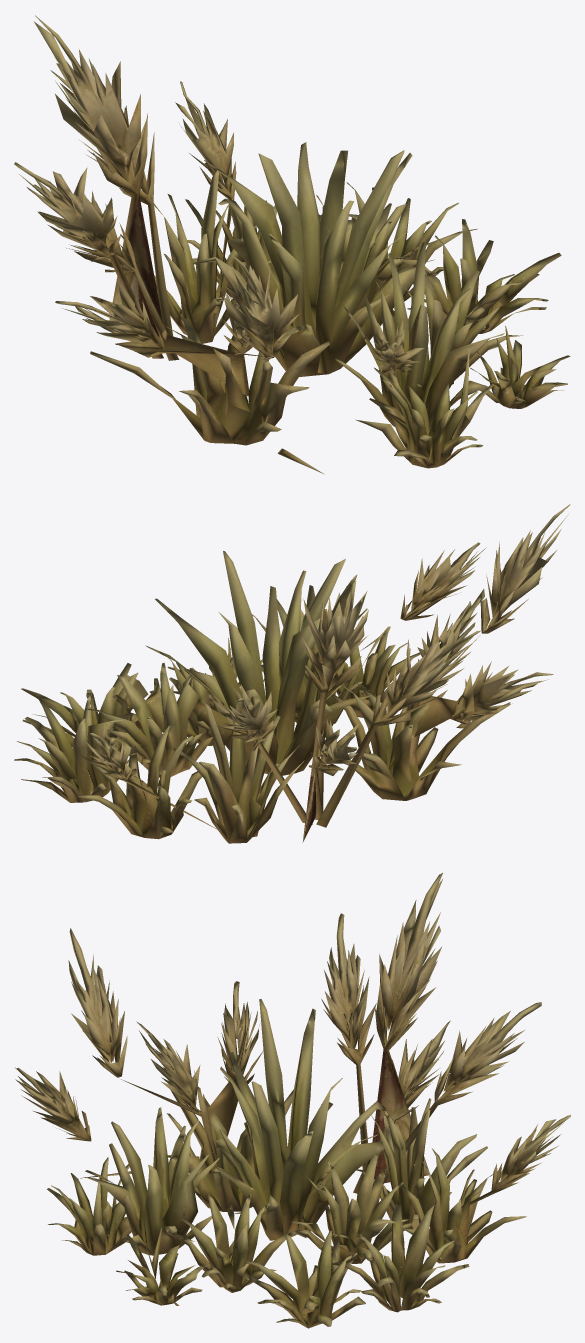
File: tripo_convert_0673644a-0f0e-4099-988a-745da5180ba0.fbx
The picture shows the model from 3 angles, top to bottom: view 1: azimuth 30°, elevation 25°; view 2: azimuth 150°, elevation 25°; view 3: azimuth 270°, elevation 25°; orthographic projection. The views are drawn at different scales.
Visible parts, largest first — view 1: tripo_node_0673644a; view 2: tripo_node_0673644a; view 3: tripo_node_0673644a.
Boxes of the visible parts, x1,y1,x2,y2 form: tripo_node_0673644a: [14, 15, 570, 474]; tripo_node_0673644a: [14, 504, 570, 843]; tripo_node_0673644a: [15, 873, 570, 1328].
Bounding box in the file's own units: 0.9707 × 0.5879 × 0.998.
Materials: 1 (1 with a texture image).
